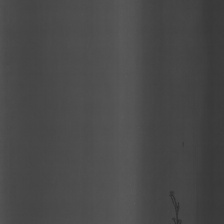water_spot: (164, 184, 183, 224)
